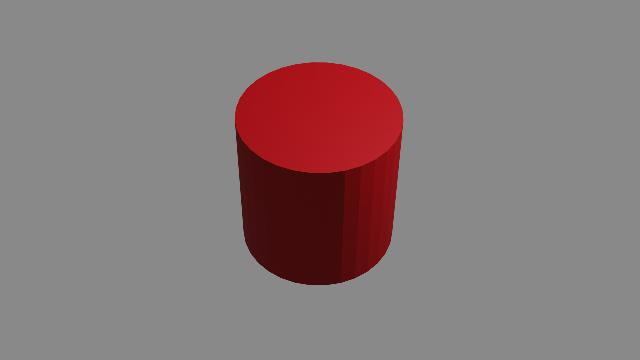Cylinder: (225, 51, 420, 303)
